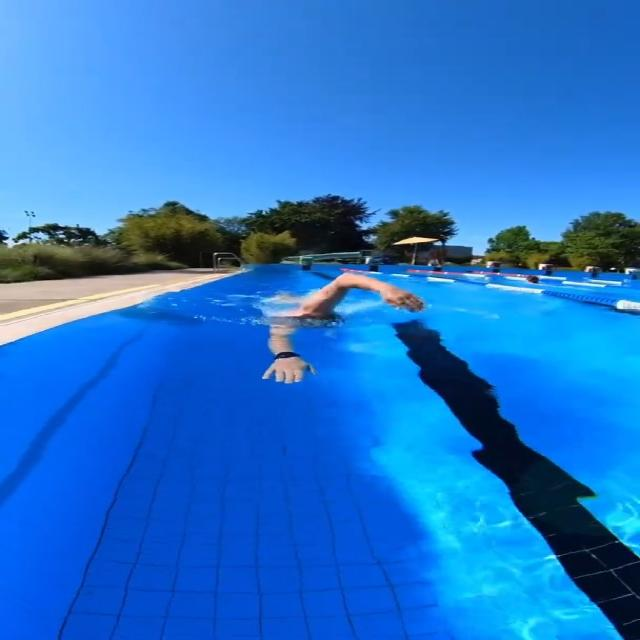Swimming: (233, 261, 432, 395)
